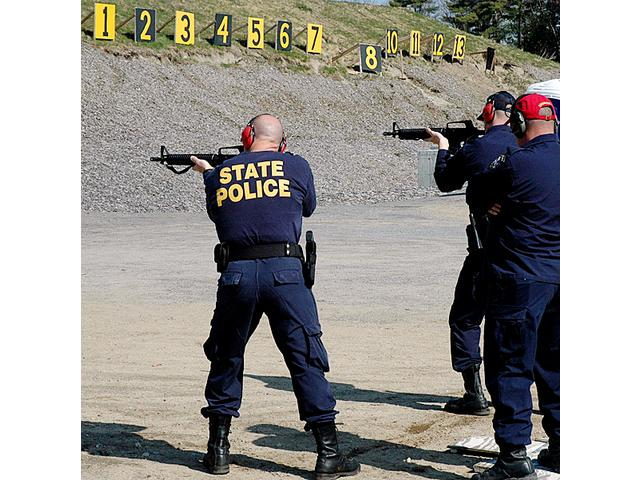rifle: (386, 119, 488, 178), (149, 143, 250, 183)
